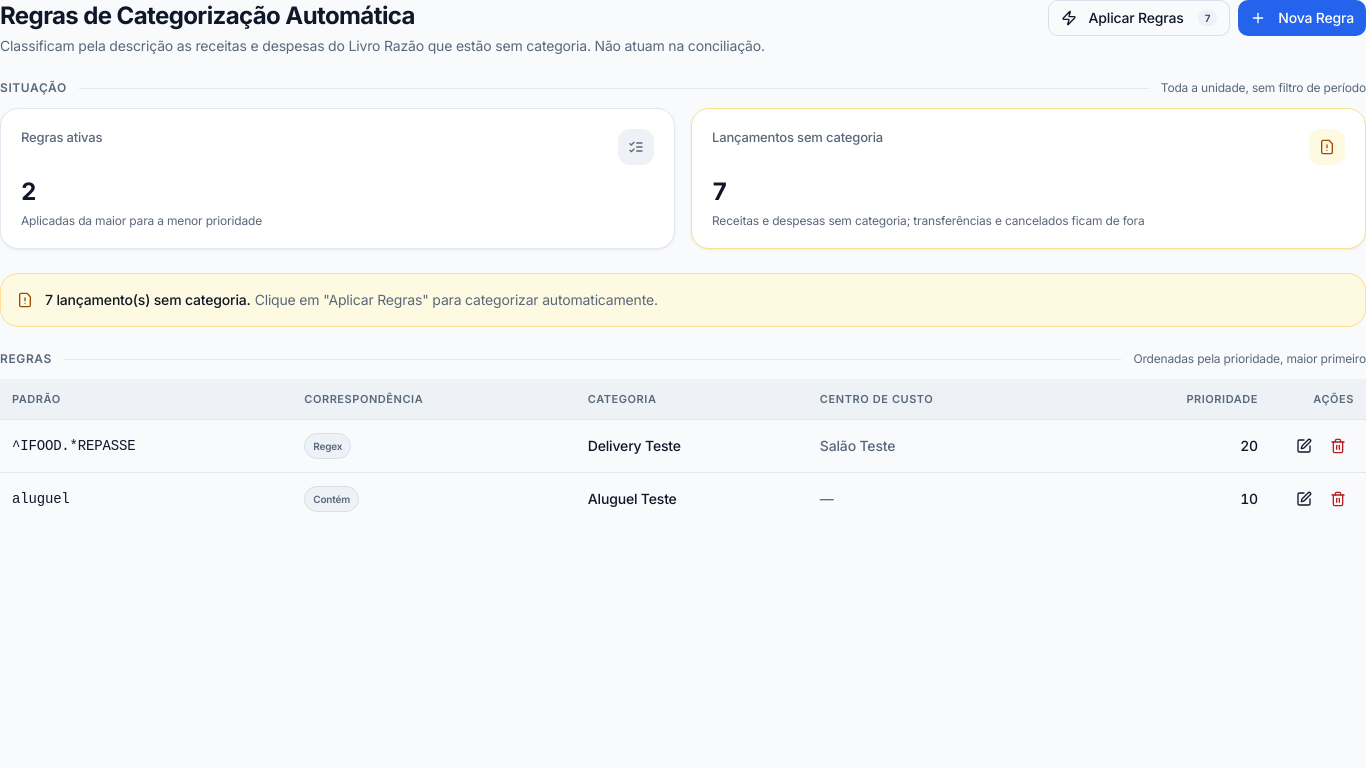
it: Categorização (V2) › Testar Regra mostra a prévia com o padrão testado e avisa quando o padrão muda; fechar não grava
Expected: the table is shown, [0,379,1365,524]
Click the button "Nova Regra" at (1302, 18), box [1238,0,1365,36]
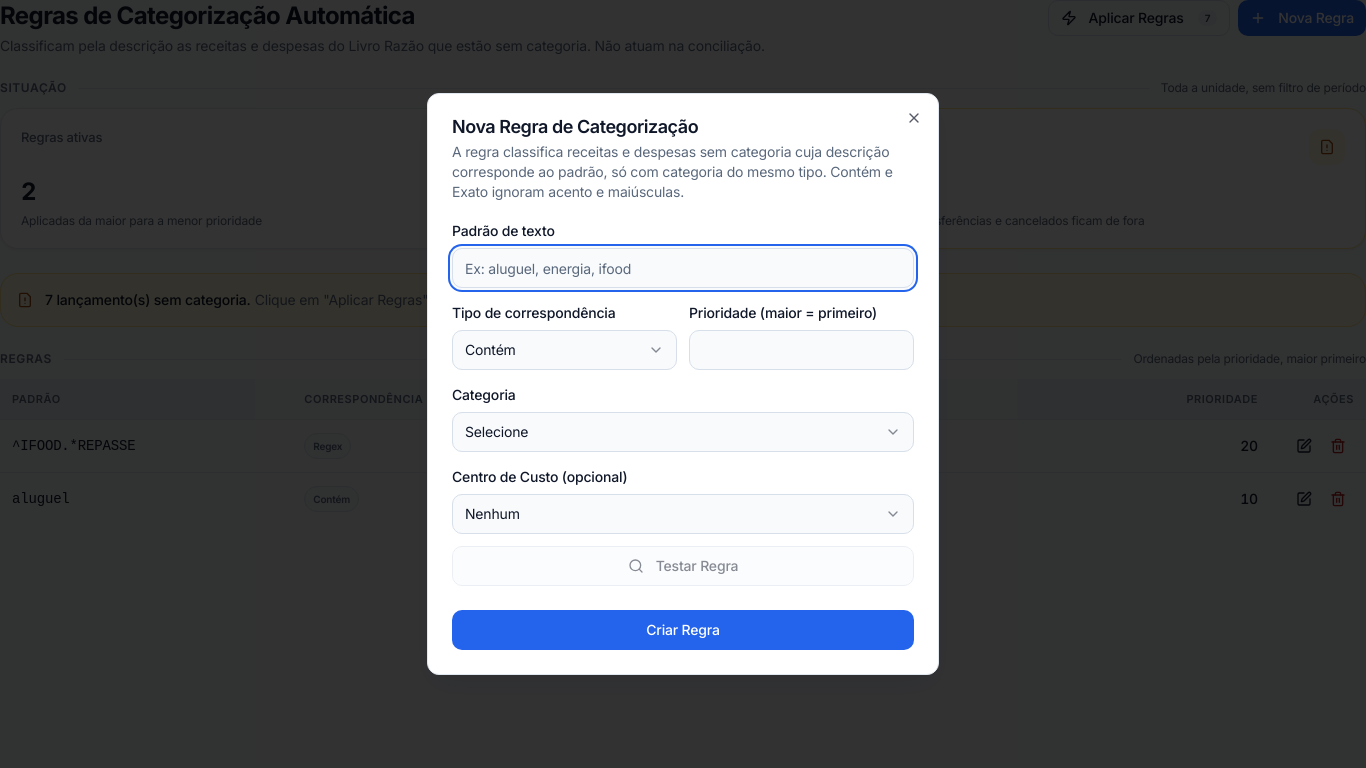
Now the field labelled "Padrão de texto" is shown
Now the dropdown named "Tipo de correspondência" is shown, box [452,330,677,370]
Now the field labelled "Prioridade (maior = primeiro)" is shown, box [689,330,914,370]
Type "aluguel" into the field labelled "Padrão de texto" at (683, 268), box [452,248,914,288]
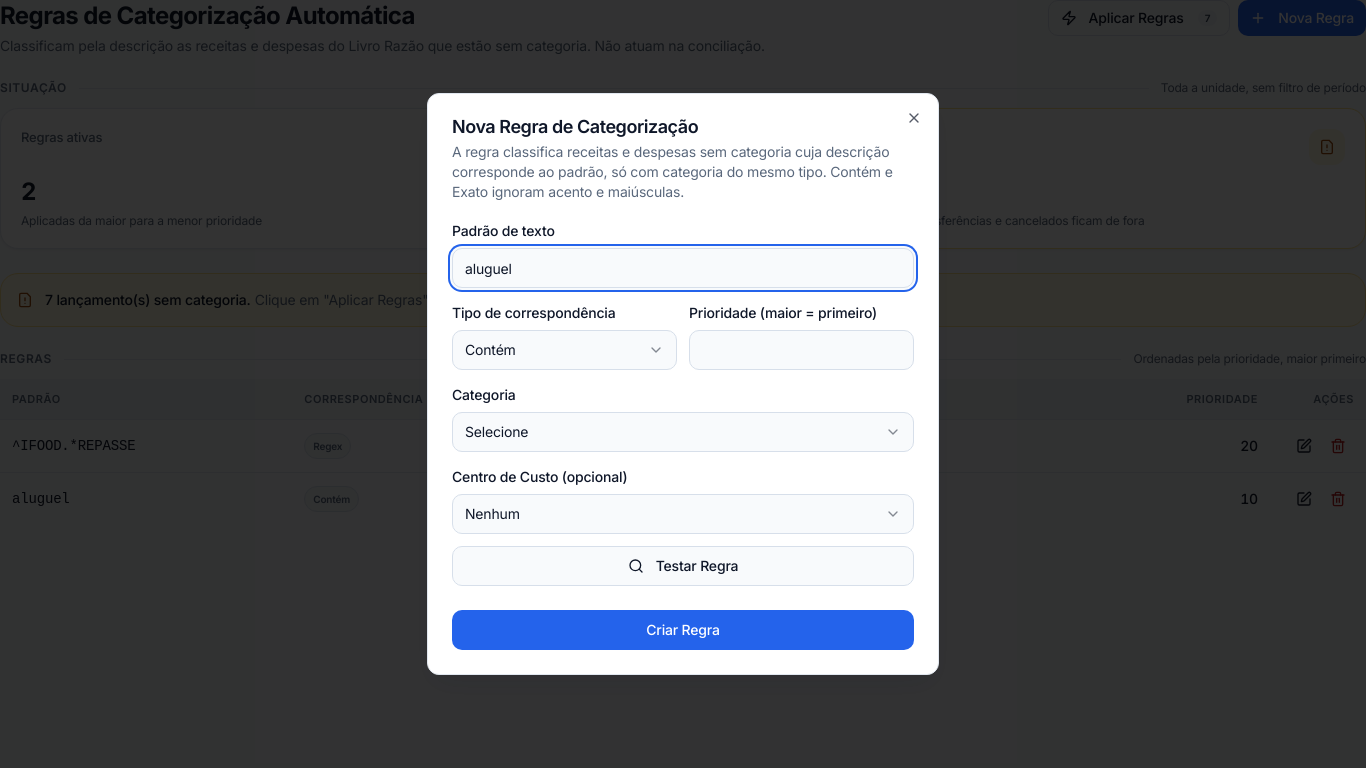
Click the button "Testar Regra" at (683, 566), box [452,546,914,586]
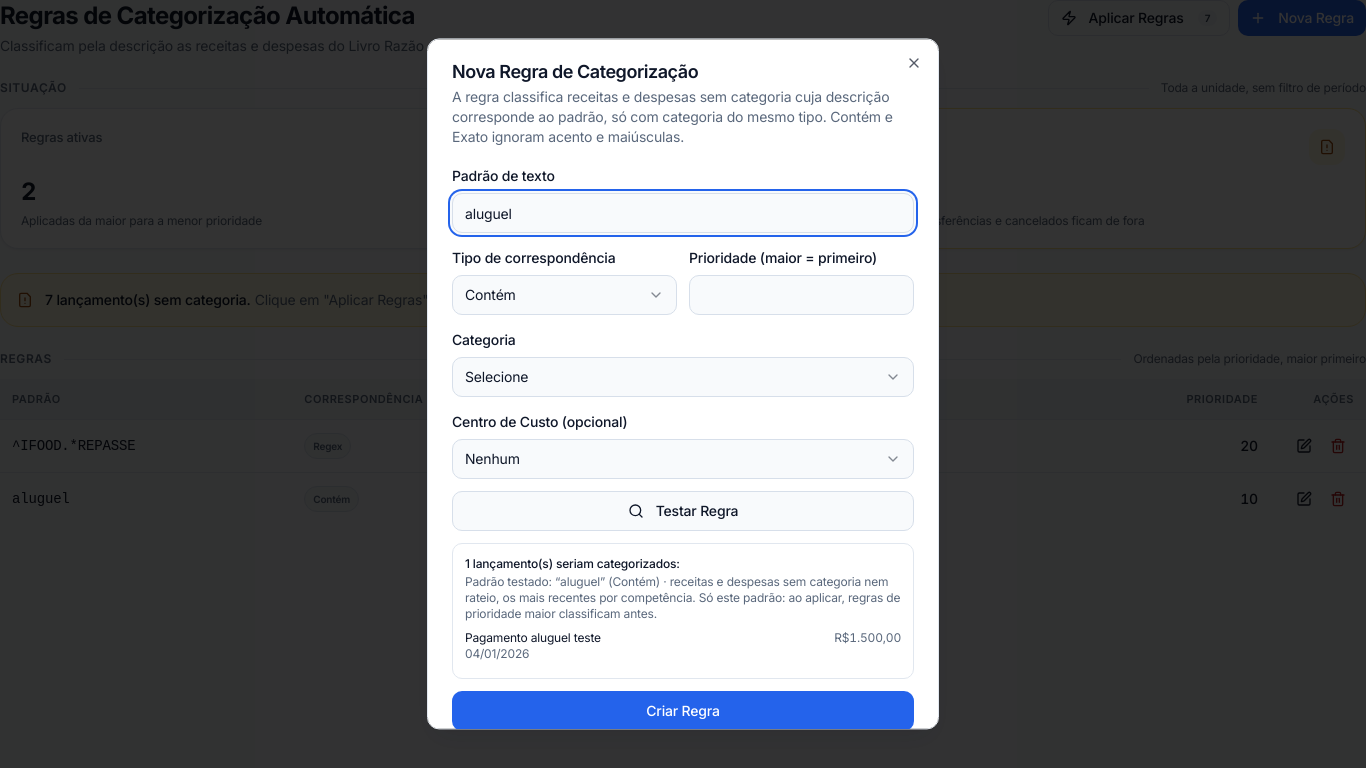
Now the text "1 lançamento(s) seriam categorizados:" is shown, box [465,556,680,571]
Now the text "Padrão testado: “aluguel” (Contém)" is shown, box [465,574,901,622]
Now the text "Pagamento aluguel teste" is shown, box [465,630,601,645]
Replace the text in the field labelled "Padrão de texto" with "aluguel loja" at (683, 213), box [452,193,914,233]
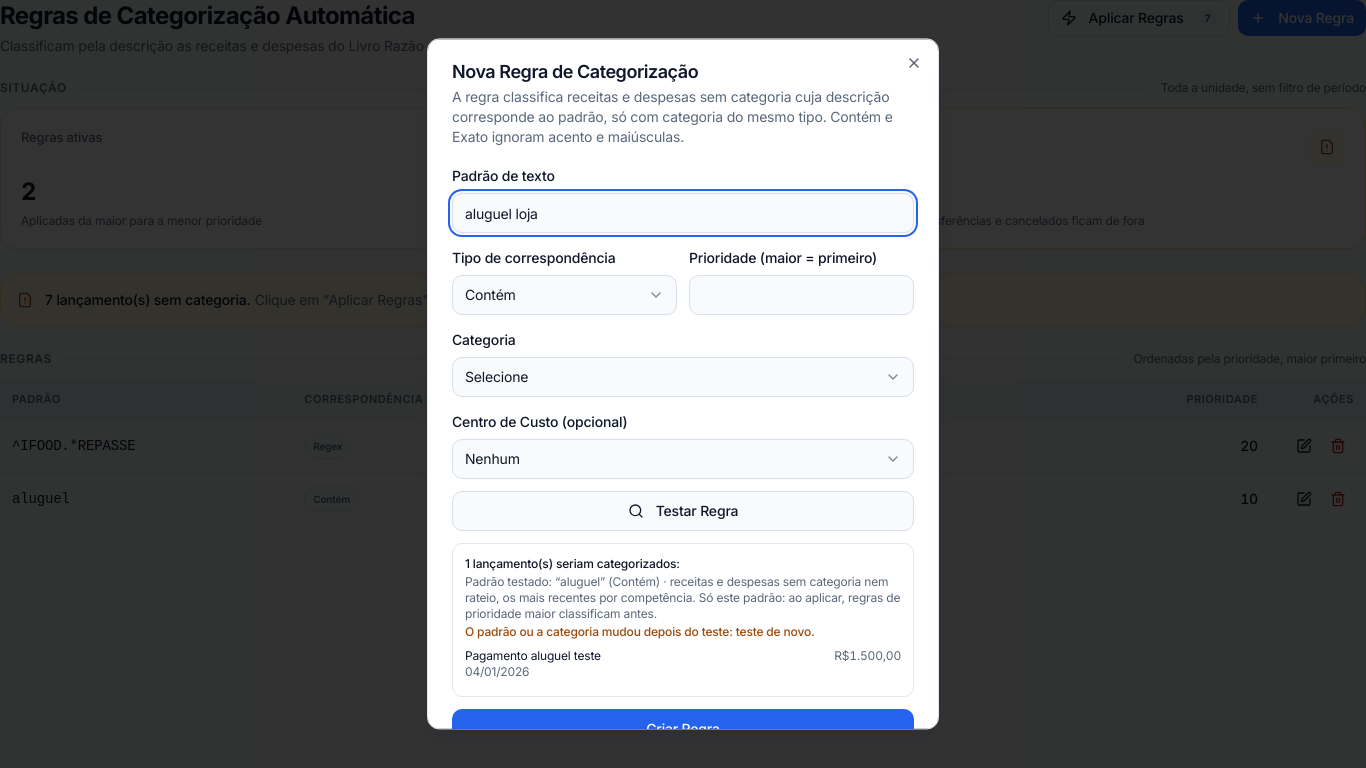
Now the text "O padrão ou a categoria mudou depois do teste: teste de novo." is shown, box [465,624,814,639]
Press Escape in the dialog "Nova Regra de Categorização", box [427,38,939,730]
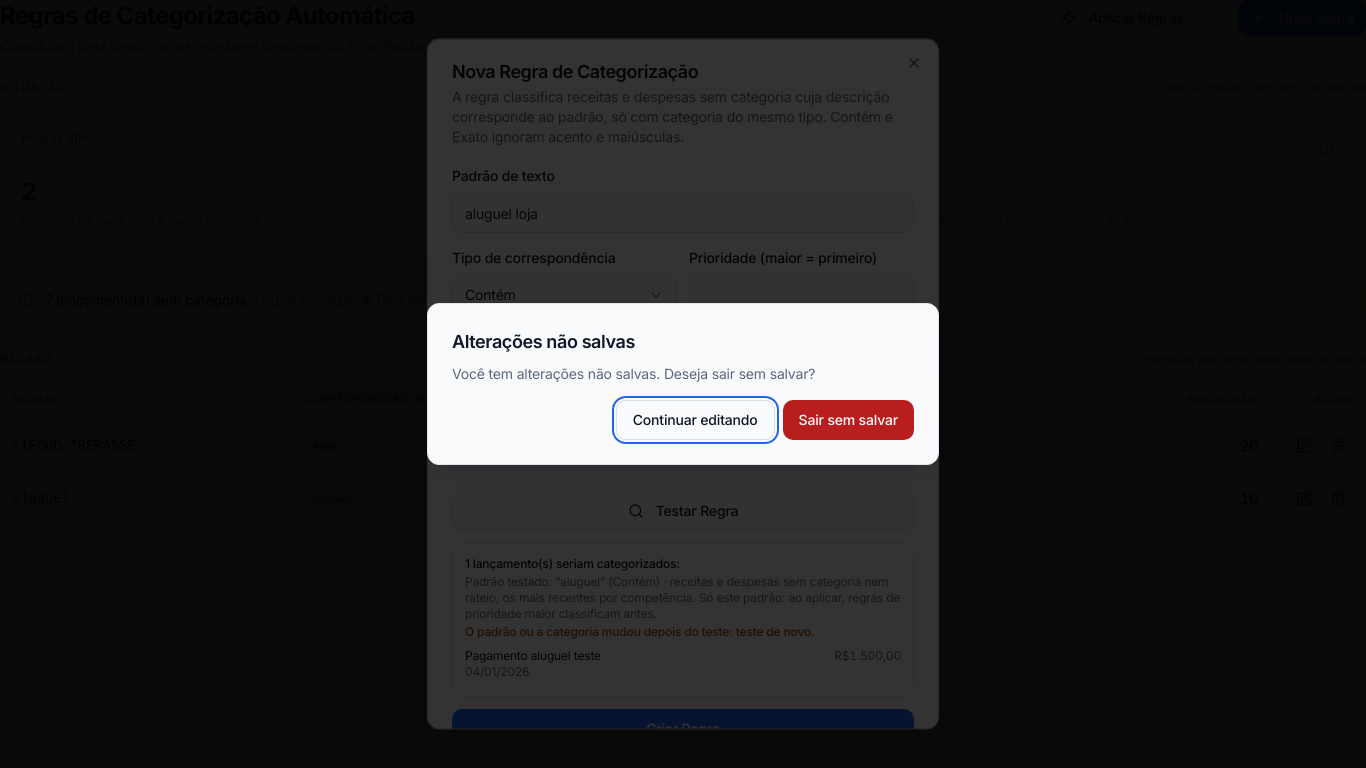
Click the button "Sair sem salvar" at (848, 420), box [783,400,914,440]
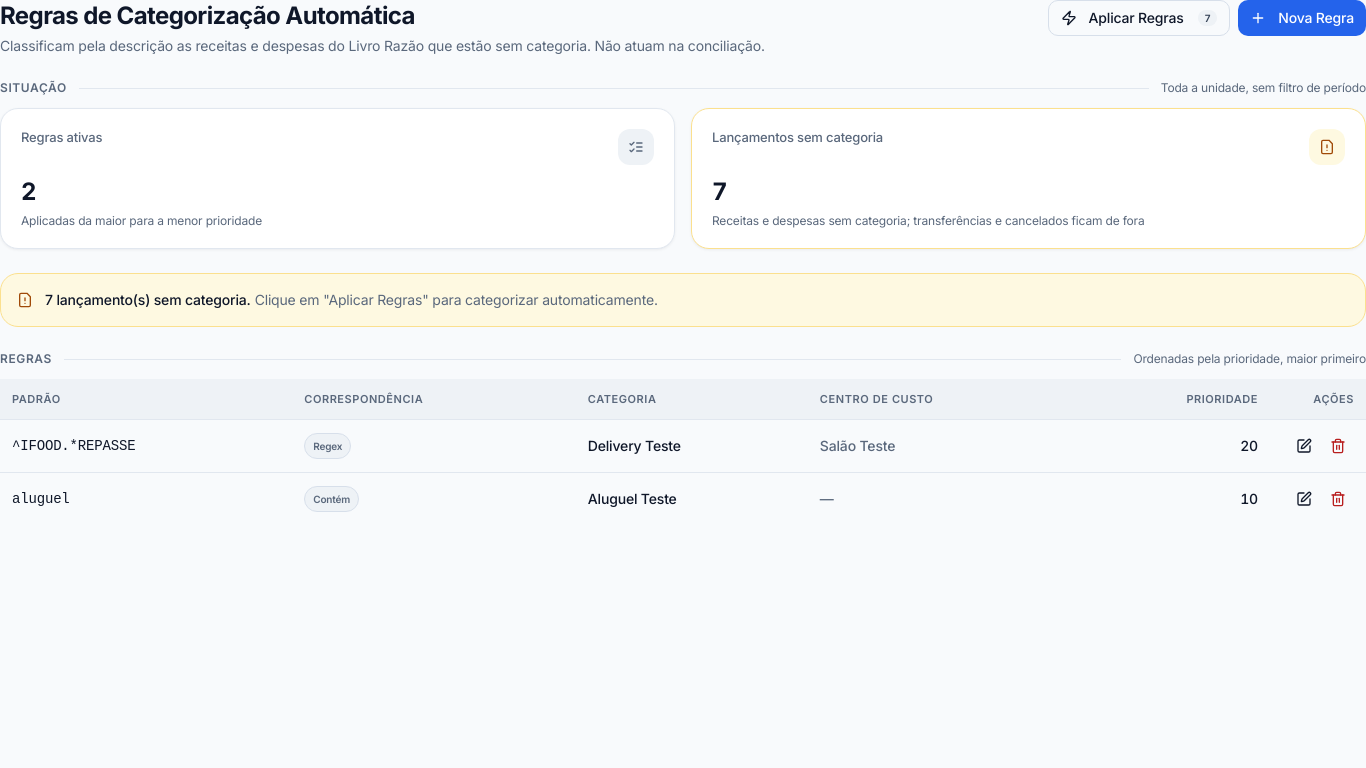
Now the heading "Nova Regra de Categorização" is gone
